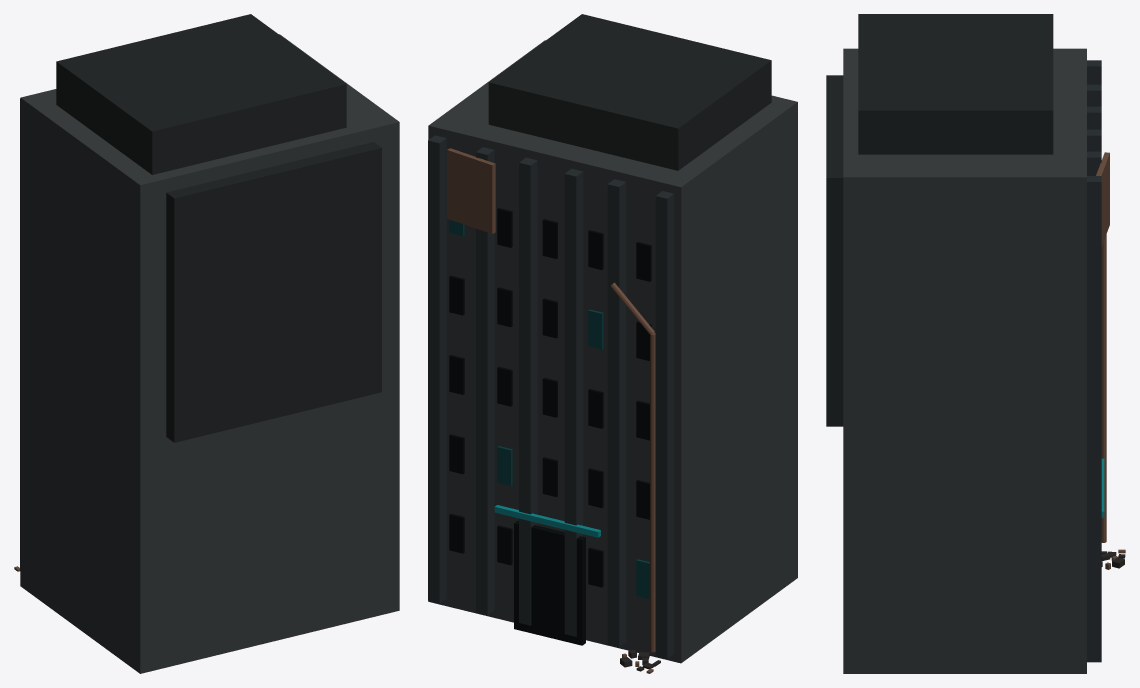
The model's file is RuinedMidrise_B.obj.
The picture shows the model from 3 angles, left to right: view 1: azimuth 30°, elevation 25°; view 2: azimuth 150°, elevation 25°; view 3: azimuth 270°, elevation 25°; orthographic projection. The views are drawn at different scales.
Parts seen in each view (by area): view 1: Architecture; view 2: Architecture, Facade, Windows, Entrance, Damage, Pipes, CyanLights; view 3: Architecture, Facade, Pipes, Damage.
Boxes of the visible parts, x1,y1,x2,y2 form: Architecture: [20, 14, 399, 673]; Architecture: [428, 14, 797, 663]; Facade: [428, 135, 674, 658]; Windows: [449, 208, 651, 599]; Entrance: [514, 520, 585, 645]; Damage: [447, 148, 495, 233]; Pipes: [610, 282, 655, 652]; CyanLights: [494, 505, 600, 537]; Architecture: [826, 14, 1086, 673]; Facade: [1087, 60, 1101, 662]; Pipes: [1101, 234, 1106, 542]; Damage: [1096, 152, 1109, 246].
Size of the model in its own units: 10 by 19.6 by 9.82.
